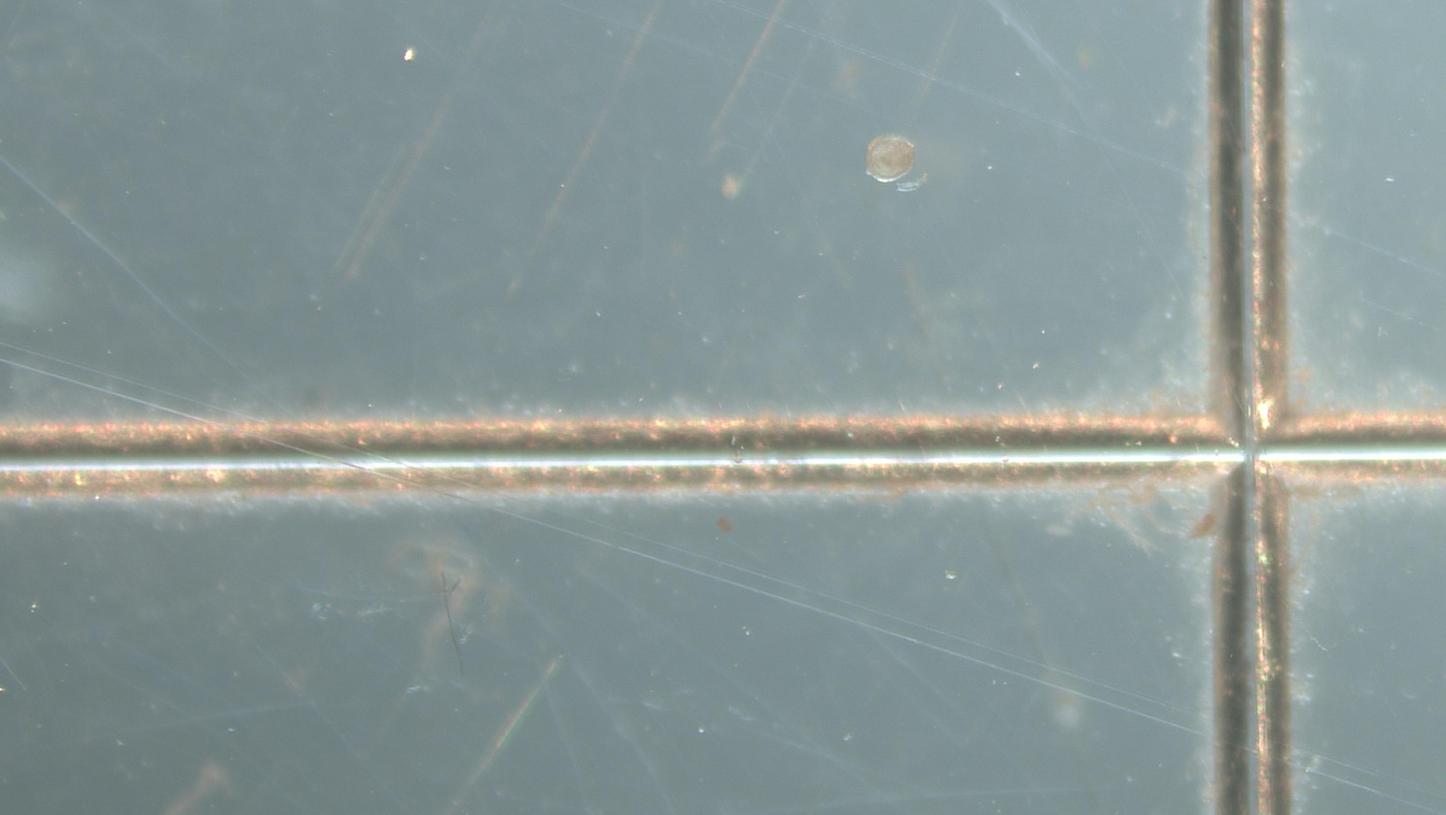live: (866, 135, 915, 182)
